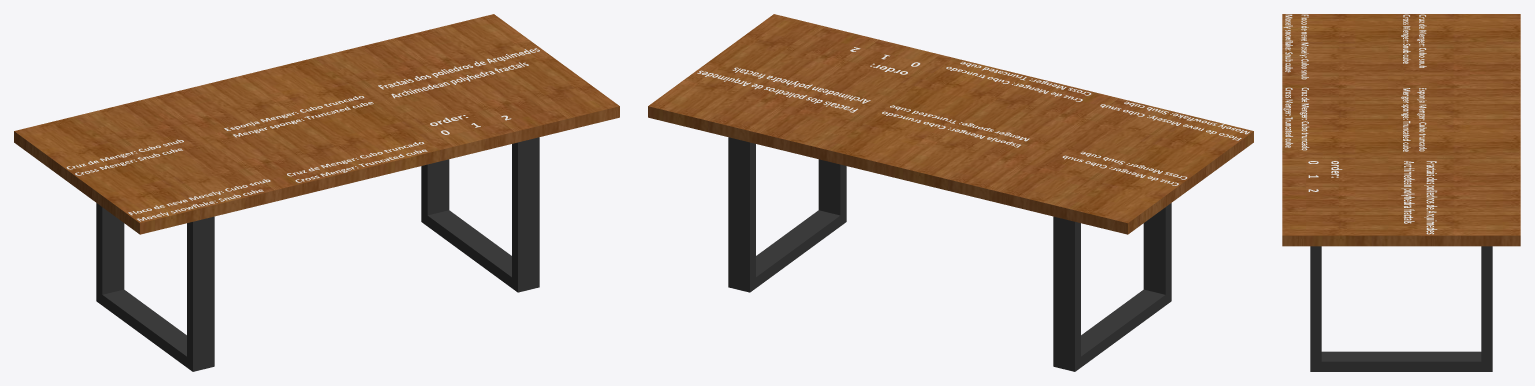
Rendered from fractal_arquim5.glb.
3 renders of one model, left to right at view 1: azimuth 30°, elevation 25°; view 2: azimuth 150°, elevation 25°; view 3: azimuth 270°, elevation 25°, orthographic. The views are drawn at different scales.
Parts seen in each view (by area): view 1: object 1, Composant#1 (×2), Fractais dos pol#2, Esponja Menger:, Cruz de Menger: #1, Floco de neve Mo#1, Cruz de Menger:; view 2: object 1, Composant#1 (×2), Fractais dos pol#2, Esponja Menger:, Cruz de Menger: #1, Floco de neve Mo#1, Cruz de Menger:; view 3: object 1, Composant#1, Fractais dos pol#2, Esponja Menger:, Floco de neve Mo#1, Cruz de Menger: #1, Cruz de Menger:.
Part boxes in pixels (<box>): object 1: <box>14,14,619,234</box>; Composant#1 (×2): <box>96,137,539,371</box>; Fractais dos pol#2: <box>378,48,539,98</box>; Esponja Menger:: <box>224,96,373,137</box>; Cruz de Menger: #1: <box>287,142,427,182</box>; Floco de neve Mo#1: <box>128,179,270,221</box>; Cruz de Menger:: <box>66,139,183,175</box>; object 1: <box>648,14,1253,234</box>; Composant#1 (×2): <box>728,137,1171,371</box>; Fractais dos pol#2: <box>697,67,870,112</box>; Esponja Menger:: <box>882,105,1029,147</box>; Cruz de Menger: #1: <box>946,61,1091,101</box>; Floco de neve Mo#1: <box>1100,101,1249,140</box>; Cruz de Menger:: <box>1062,151,1187,185</box>; object 1: <box>1282,14,1520,246</box>; Composant#1: <box>1310,246,1492,371</box>; Fractais dos pol#2: <box>1401,161,1437,234</box>; Esponja Menger:: <box>1401,88,1426,151</box>; Floco de neve Mo#1: <box>1283,14,1308,79</box>; Cruz de Menger: #1: <box>1283,87,1309,150</box>; Cruz de Menger:: <box>1401,14,1426,67</box>.
Bounding box in the file's own units: 2.2 × 0.7711 × 1.
3 materials, 1 textured.
